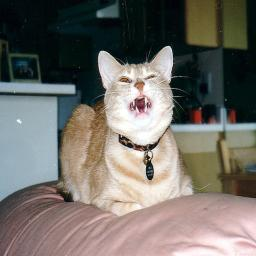catnose: (133, 78, 146, 94)
